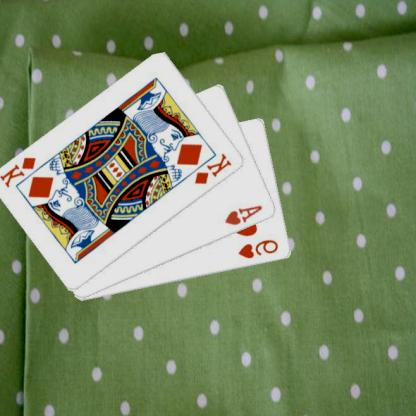9H: (238, 237, 282, 261)
AH: (224, 202, 266, 227)
KD: (194, 150, 235, 186), (0, 154, 40, 189)
